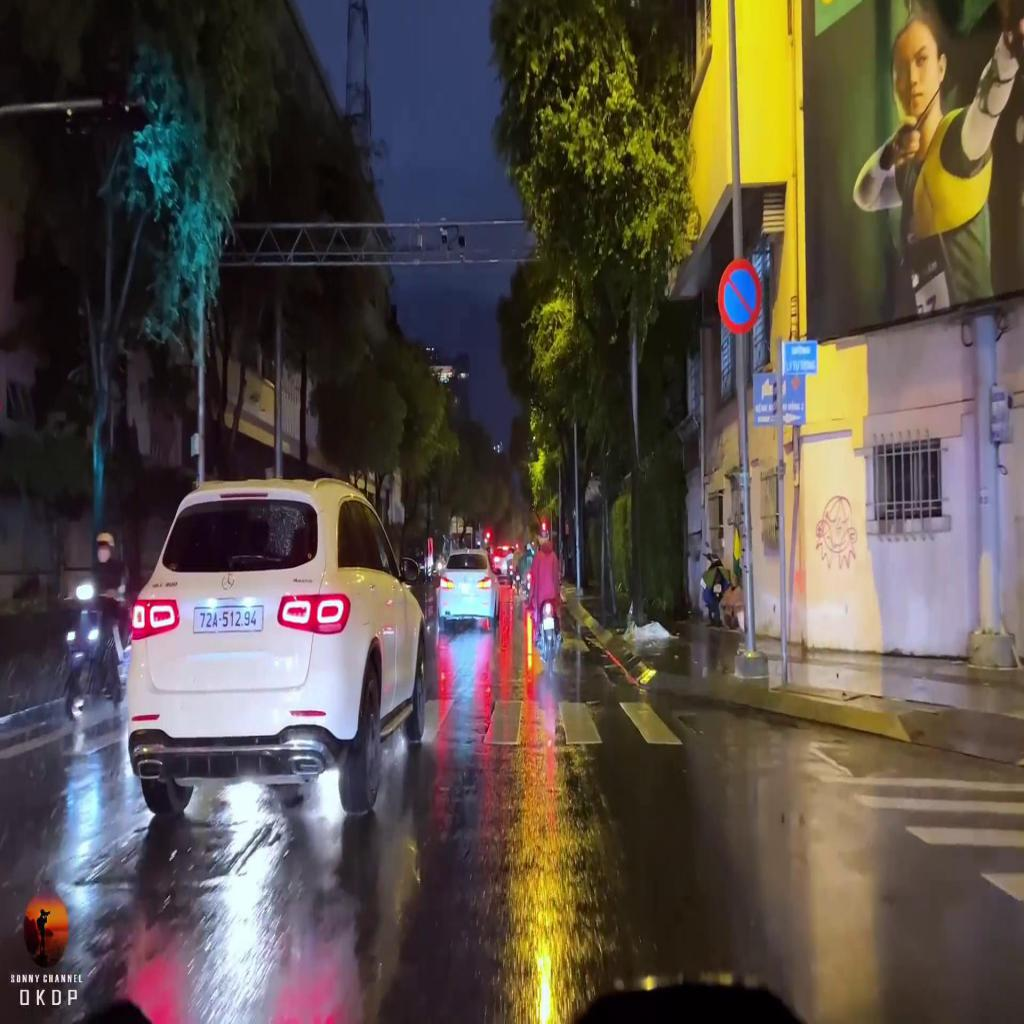cam_do_xe: (717, 259, 762, 335)
